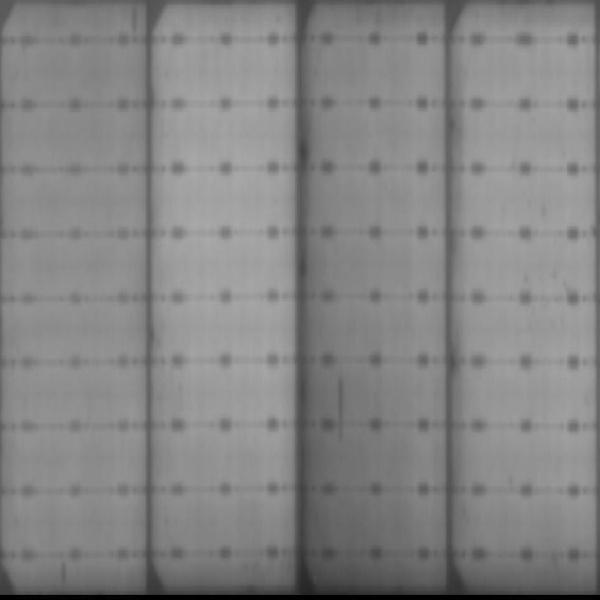scratch: (333, 378, 349, 442), (126, 1, 141, 41)
